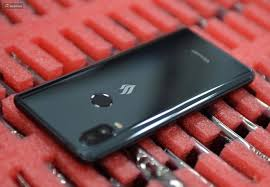vsmart: (11, 25, 258, 163)
